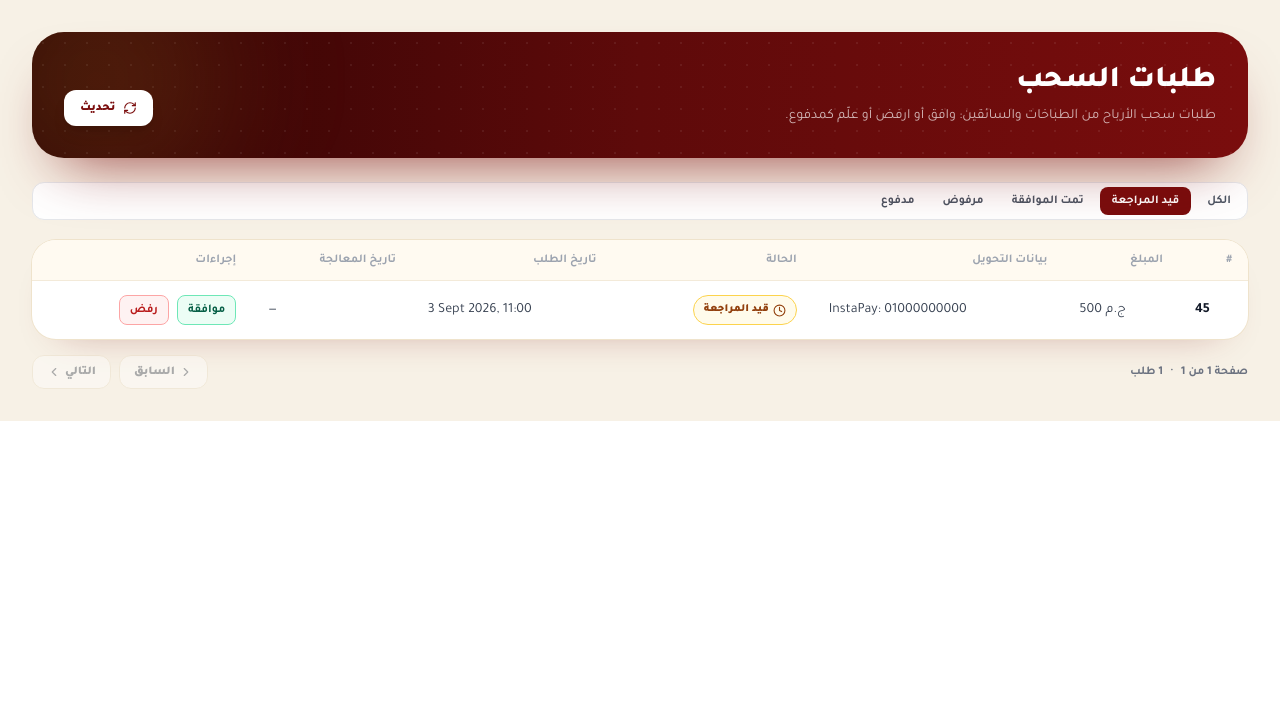
Test: US2 — approve a pending withdrawal › cancelling the confirm dialog sends zero requests
Expected: the text "45" is shown, [1179,280,1248,339]
Click the button "موافقة": (207, 310) [177,295,236,325]
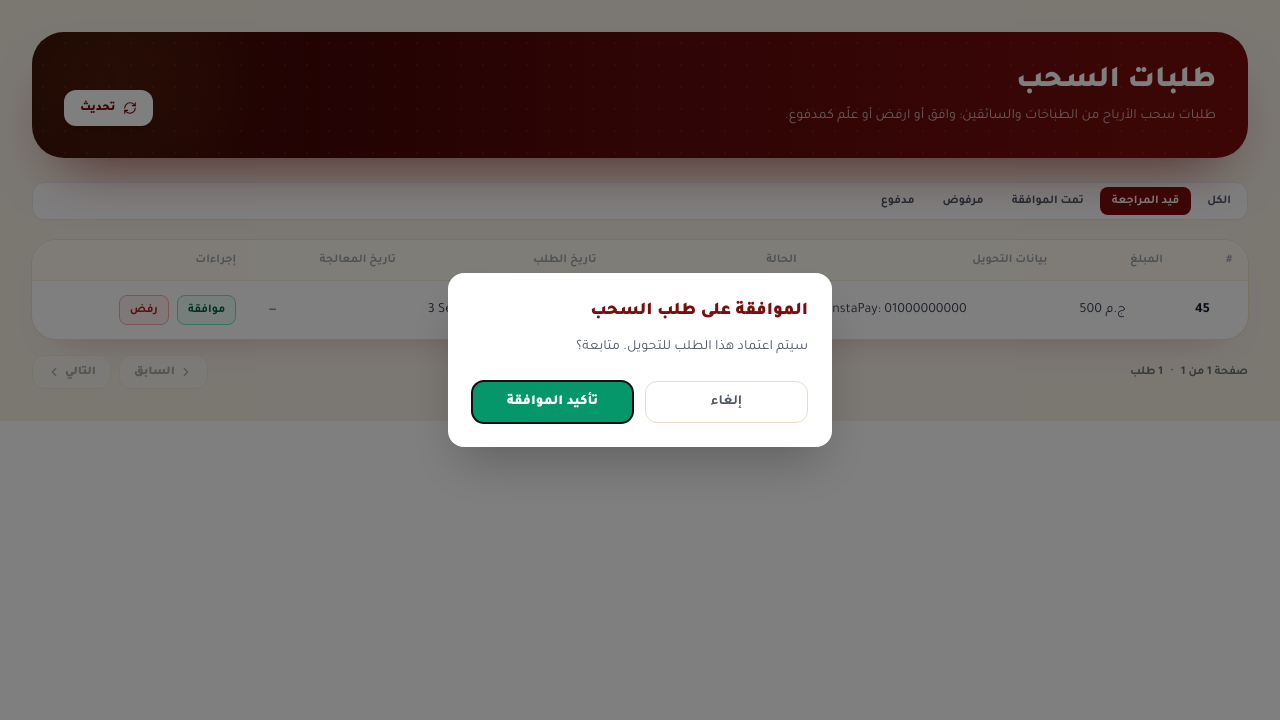
Expected: the dialog is shown, [448,273,832,447]
Click the button "إلغاء": (726, 402) [645,381,808,423]
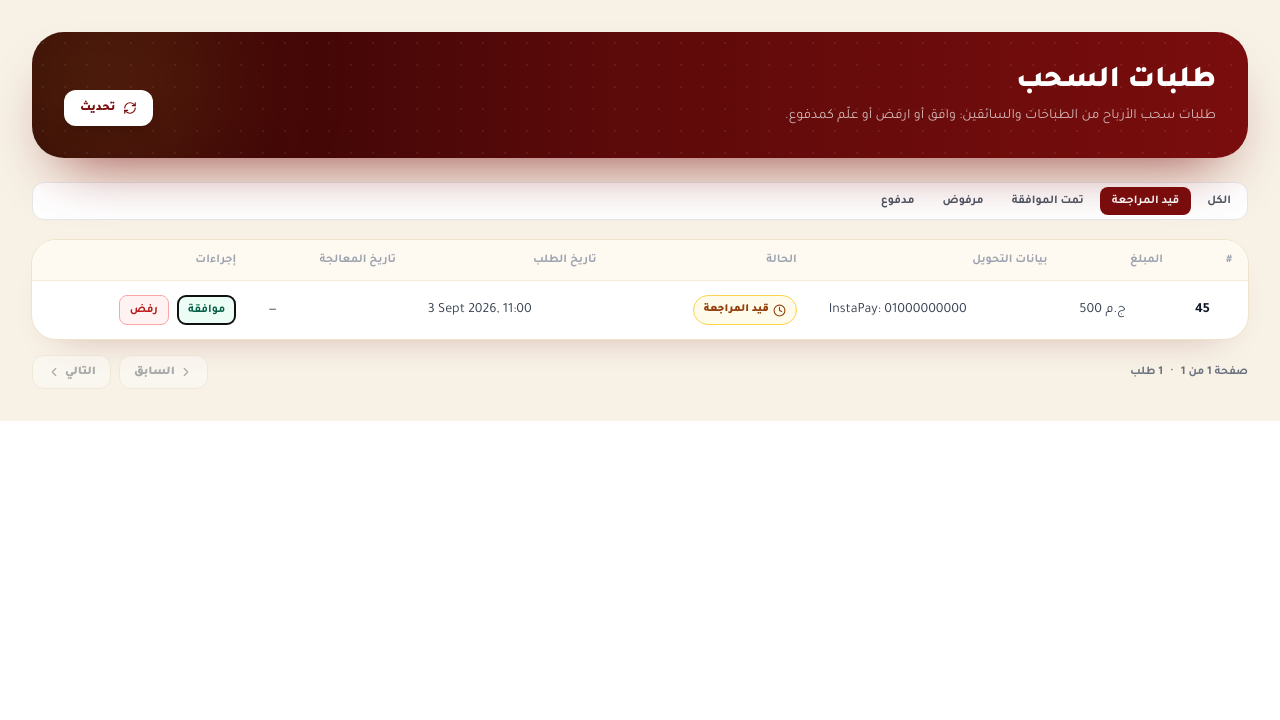
Expected: the dialog is gone
